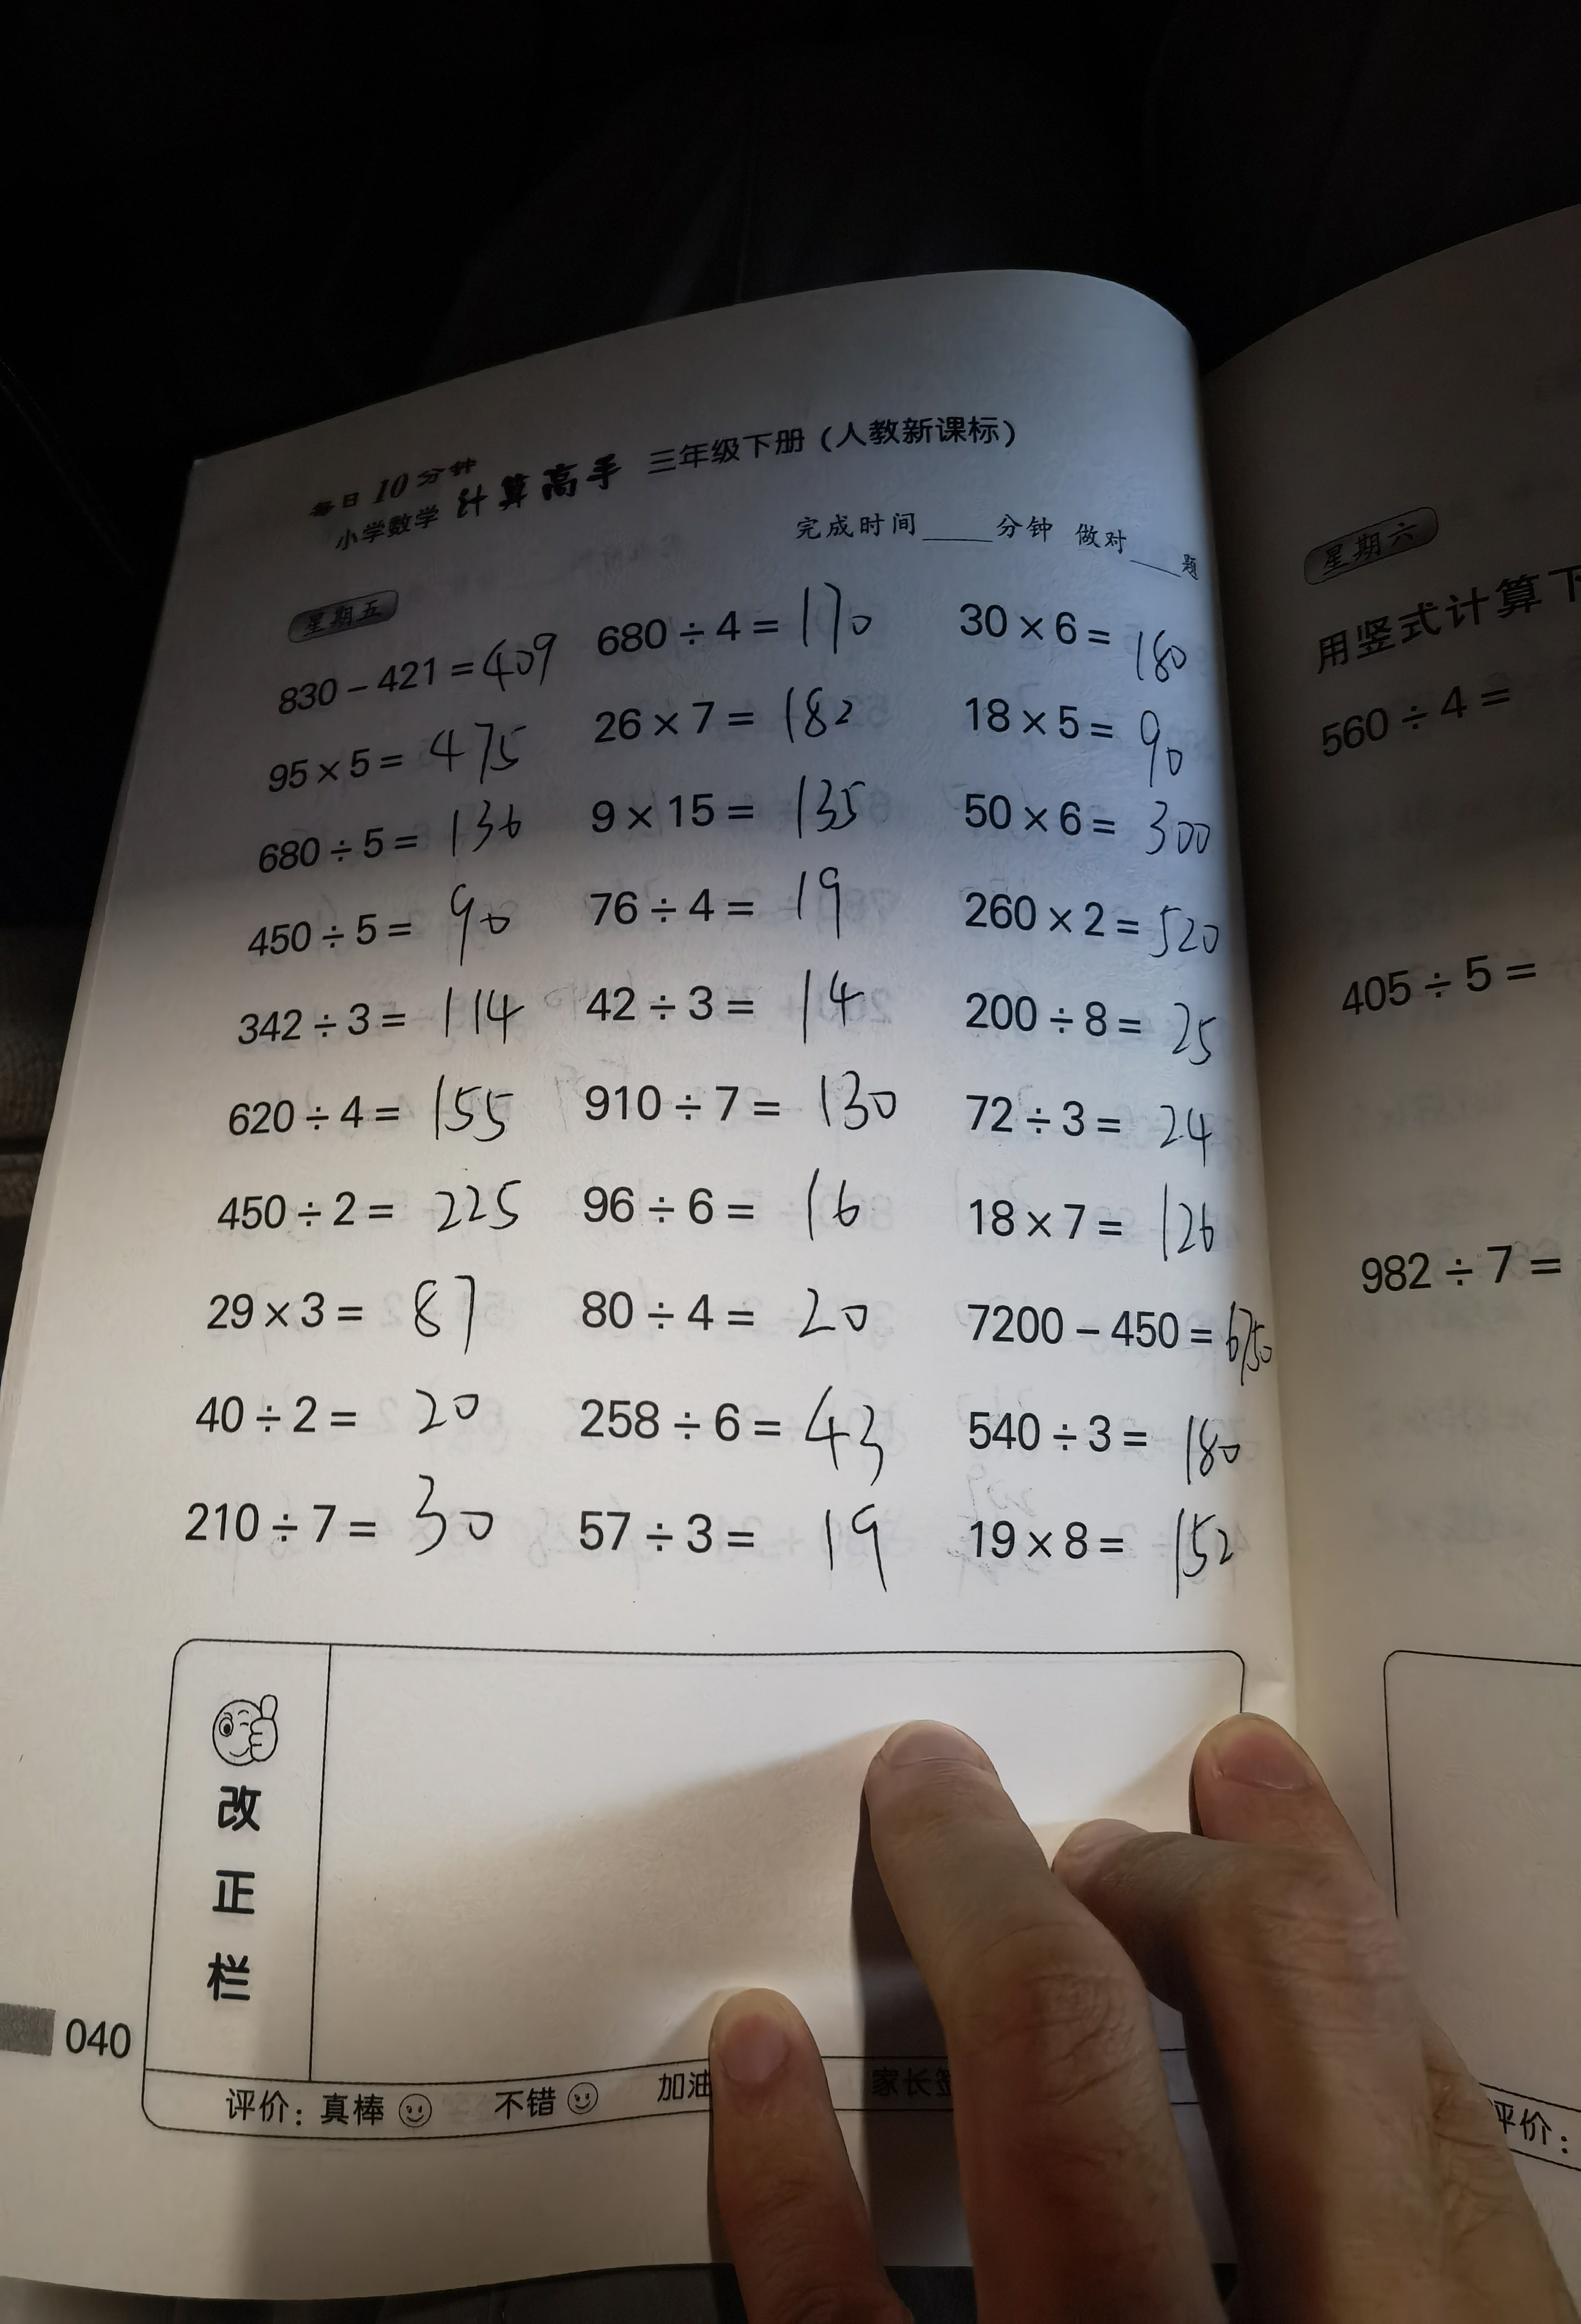equation: (540, 1481, 943, 1621), (156, 1471, 531, 1580), (568, 1373, 907, 1488), (552, 1251, 882, 1359), (578, 1046, 908, 1150), (951, 1496, 1283, 1592), (940, 1391, 1261, 1486), (204, 1271, 507, 1367), (960, 1294, 1292, 1382), (940, 1177, 1240, 1269), (953, 580, 1206, 689), (251, 630, 560, 717), (170, 1369, 497, 1451), (963, 679, 1229, 780), (953, 979, 1242, 1071), (948, 1076, 1244, 1165), (583, 770, 895, 853), (558, 967, 865, 1049), (216, 979, 548, 1053), (585, 590, 898, 668), (211, 1178, 533, 1251), (223, 1076, 509, 1155), (581, 1165, 867, 1241), (955, 886, 1227, 963), (580, 682, 887, 750), (964, 783, 1230, 861), (249, 807, 553, 875), (586, 869, 895, 936), (223, 897, 520, 963), (249, 725, 538, 787)
